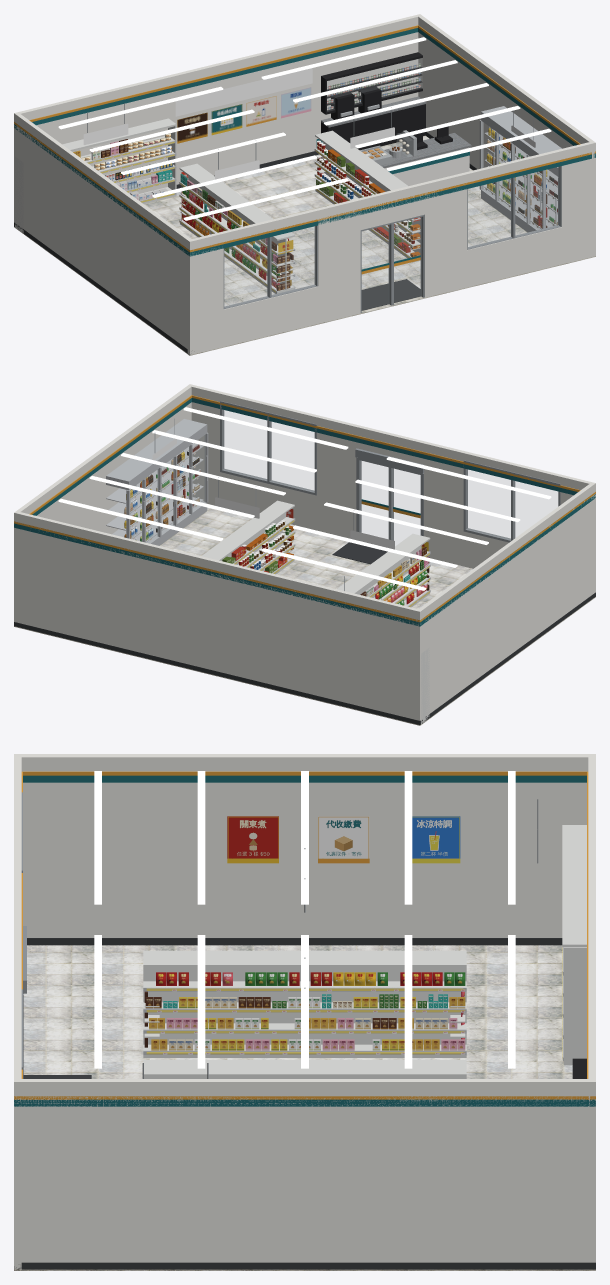
The model's file is cvs_interior.glb.
The picture shows the model from 3 angles, top to bottom: view 1: azimuth 30°, elevation 25°; view 2: azimuth 150°, elevation 25°; view 3: azimuth 270°, elevation 25°; orthographic projection. The views are drawn at different scales.
Visible parts, largest first — view 1: WALL_front_wall, WALL_left_wall, WALL_back_wall, WALL_front_glass, cvs_floor, cvs_goods_items, WALL_right_wall, cvs_shelf, cvs_led, cvs_black, cvs_rail, cvs_cooler (+19 smaller); view 2: WALL_back_wall, WALL_left_wall, WALL_front_wall, WALL_front_glass, cvs_led, cvs_floor, WALL_right_wall, cvs_goods_items, cvs_shelf, cvs_cooler, WALL_front_frame, cvs_glass (+13 smaller); view 3: WALL_right_wall, WALL_left_wall, cvs_floor, cvs_shelf, cvs_goods_items, cvs_led, WALL_left_posters, WALL_right_mat, WALL_right_teal, WALL_left_teal, WALL_front_wall, WALL_back_wall (+6 smaller).
Part boxes in pixels (<box>): WALL_front_wall: <box>187,142,595,354</box>; WALL_left_wall: <box>14,113,193,349</box>; WALL_back_wall: <box>14,14,421,222</box>; WALL_front_glass: <box>225,167,558,309</box>; cvs_floor: <box>14,135,595,355</box>; cvs_goods_items: <box>73,63,557,290</box>; WALL_right_wall: <box>417,14,595,252</box>; cvs_shelf: <box>15,118,420,293</box>; cvs_led: <box>58,37,551,220</box>; cvs_black: <box>321,52,452,150</box>; cvs_rail: <box>86,131,557,293</box>; cvs_cooler: <box>479,106,561,232</box>; WALL_back_wall: <box>14,512,422,720</box>; WALL_left_wall: <box>416,483,595,720</box>; WALL_front_wall: <box>188,384,595,568</box>; WALL_front_glass: <box>223,410,557,545</box>; cvs_led: <box>58,407,551,590</box>; cvs_floor: <box>14,507,595,725</box>; WALL_right_wall: <box>14,385,193,622</box>; cvs_goods_items: <box>124,444,429,605</box>; cvs_shelf: <box>201,500,430,724</box>; cvs_cooler: <box>106,419,208,545</box>; WALL_front_frame: <box>220,401,560,542</box>; cvs_glass: <box>131,435,205,542</box>; WALL_right_wall: <box>14,1079,595,1262</box>; WALL_left_wall: <box>14,754,595,937</box>; cvs_floor: <box>14,945,595,1270</box>; cvs_shelf: <box>143,825,586,1078</box>; cvs_goods_items: <box>144,972,465,1054</box>; cvs_led: <box>94,771,515,1068</box>; WALL_left_posters: <box>227,816,460,863</box>; WALL_right_mat: <box>14,1262,595,1269</box>; WALL_right_teal: <box>14,1099,595,1106</box>; WALL_left_teal: <box>23,775,586,782</box>; WALL_front_wall: <box>14,754,21,1269</box>; WALL_back_wall: <box>588,754,595,1262</box>.
Bounding box in the file's own units: 12 × 3.22 × 9.
Materials: 23 (3 with a texture image).
